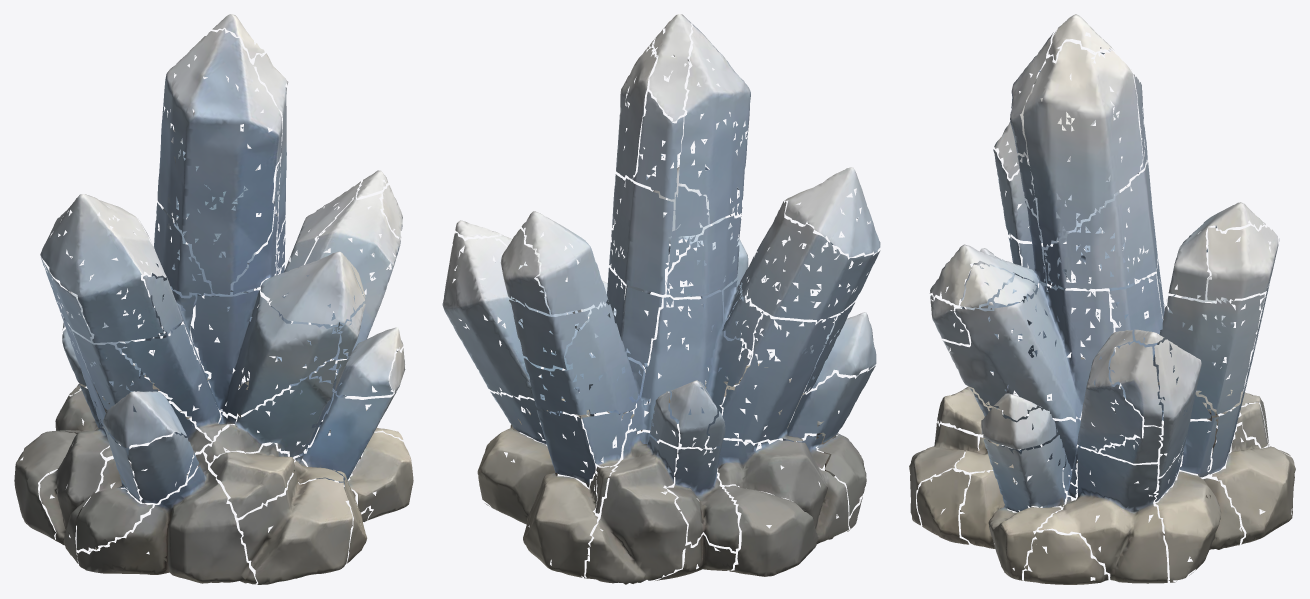
The model's file is Cristal_celeste_1.glb.
3 views of the same model, side by side, from view 1: azimuth 30°, elevation 25°; view 2: azimuth 150°, elevation 25°; view 3: azimuth 270°, elevation 25° (orthographic). The views are drawn at different scales.
Visible parts, largest first — view 1: tripo_node_a3e39418-c3d6-43f9-8efc-897022193501; view 2: tripo_node_a3e39418-c3d6-43f9-8efc-897022193501; view 3: tripo_node_a3e39418-c3d6-43f9-8efc-897022193501.
Part boxes in pixels (x1,y1,x2,y2): tripo_node_a3e39418-c3d6-43f9-8efc-897022193501: (14,14,413,584); tripo_node_a3e39418-c3d6-43f9-8efc-897022193501: (442,14,880,584); tripo_node_a3e39418-c3d6-43f9-8efc-897022193501: (909,14,1295,584).
Bounding box in the file's own units: 0.8019 × 0.9961 × 0.7009.
Materials: 1 (1 with a texture image).
